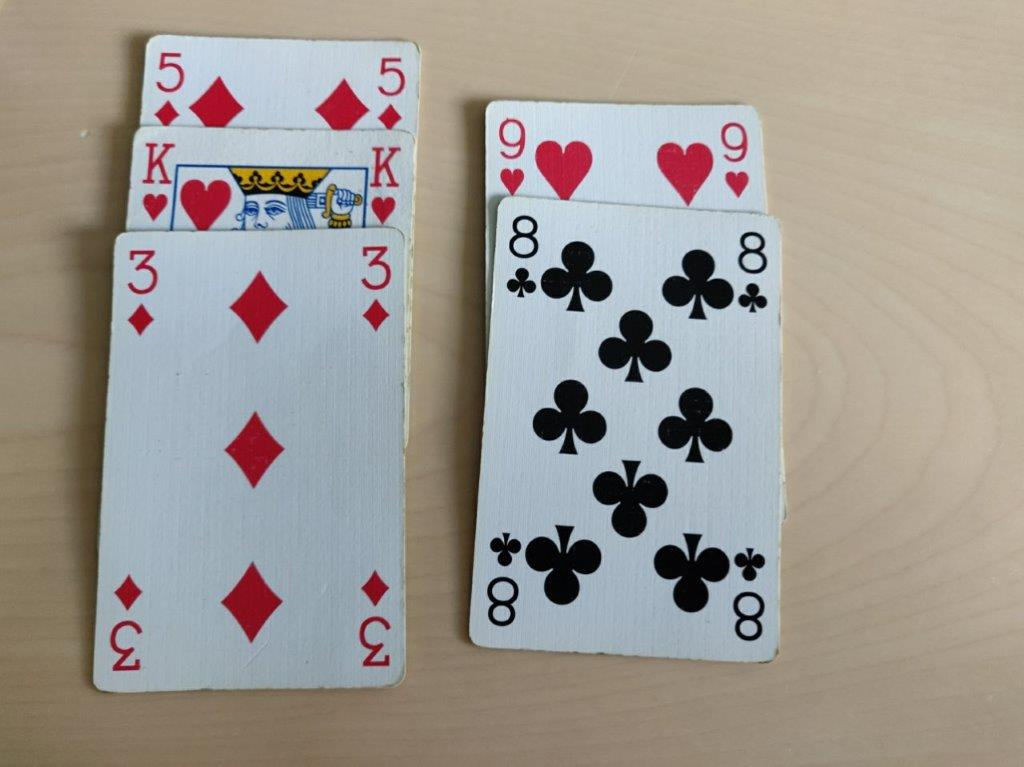3D: (121, 244, 161, 338), (357, 240, 397, 334)
5D: (149, 44, 188, 128), (373, 50, 412, 134)
8C: (503, 213, 543, 300), (735, 226, 772, 317)
9H: (717, 115, 752, 199), (493, 113, 527, 196)
KH: (139, 135, 177, 225), (368, 139, 406, 229)
